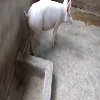heo: (22, 1, 76, 53)
